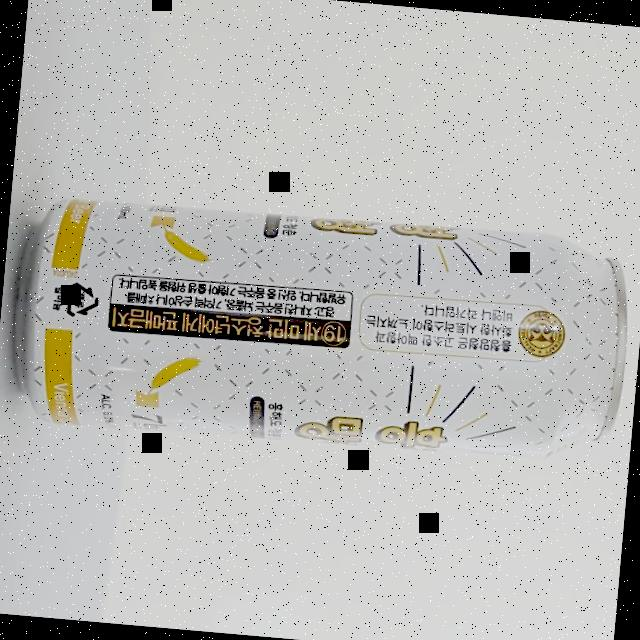can: (5, 188, 635, 472)
